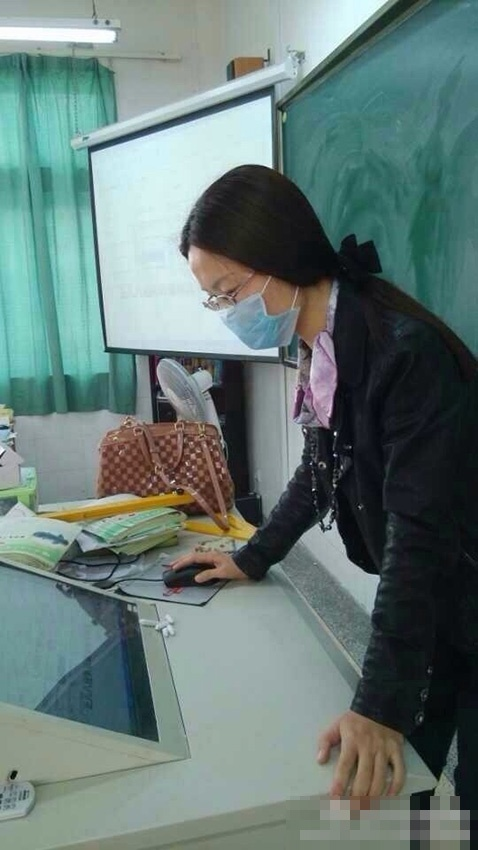correctlyWear: (193, 231, 307, 349)
